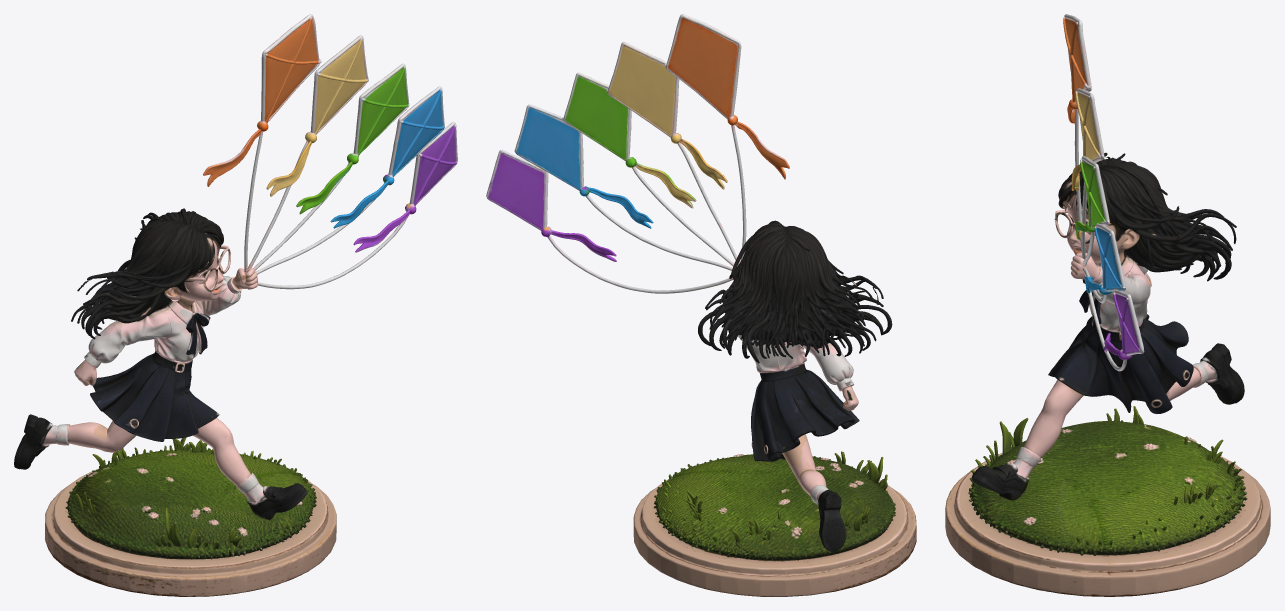
The model's file is kite.glb.
The picture shows the model from 3 angles, left to right: view 1: azimuth 30°, elevation 25°; view 2: azimuth 150°, elevation 25°; view 3: azimuth 270°, elevation 25°; orthographic projection. The views are drawn at different scales.
Parts seen in each view (by area): view 1: tripo_node_a06c4a48-b045-41e6-a1b9-dbcda33ad611; view 2: tripo_node_a06c4a48-b045-41e6-a1b9-dbcda33ad611; view 3: tripo_node_a06c4a48-b045-41e6-a1b9-dbcda33ad611.
Boxes of the visible parts, bbox=[...] form: tripo_node_a06c4a48-b045-41e6-a1b9-dbcda33ad611: bbox=[14, 14, 457, 596]; tripo_node_a06c4a48-b045-41e6-a1b9-dbcda33ad611: bbox=[486, 14, 916, 596]; tripo_node_a06c4a48-b045-41e6-a1b9-dbcda33ad611: bbox=[945, 14, 1270, 596].
Size of the model in its own units: 0.8305 by 0.979 by 0.5102.
1 material, 1 textured.
